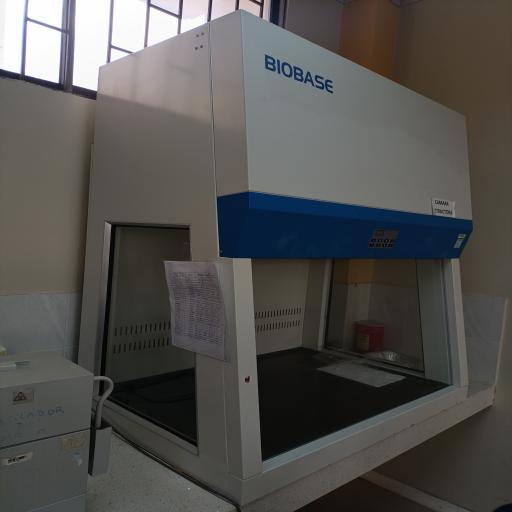Camara_Extractora_Biobase: (63, 11, 481, 511)
